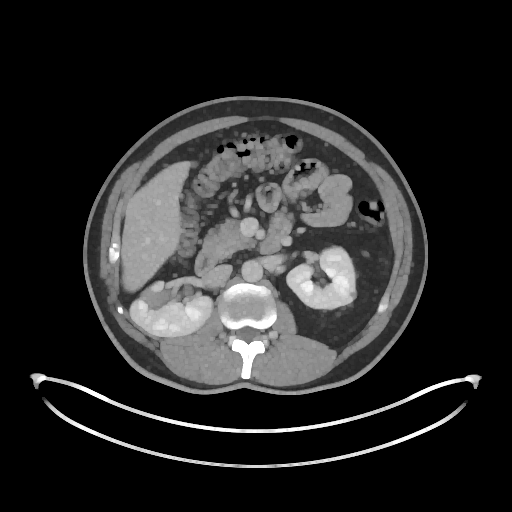Lesion: (347, 291, 358, 299)
